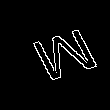M_S: (15, 23, 95, 87)
